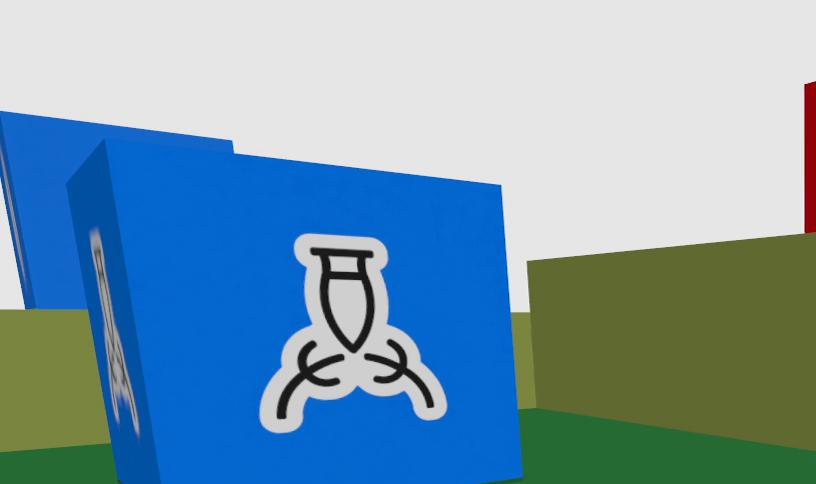KFS_FAKE: (804, 82, 816, 232)
KFS_REAL: (67, 140, 521, 484), (260, 233, 446, 432), (89, 228, 139, 436)
